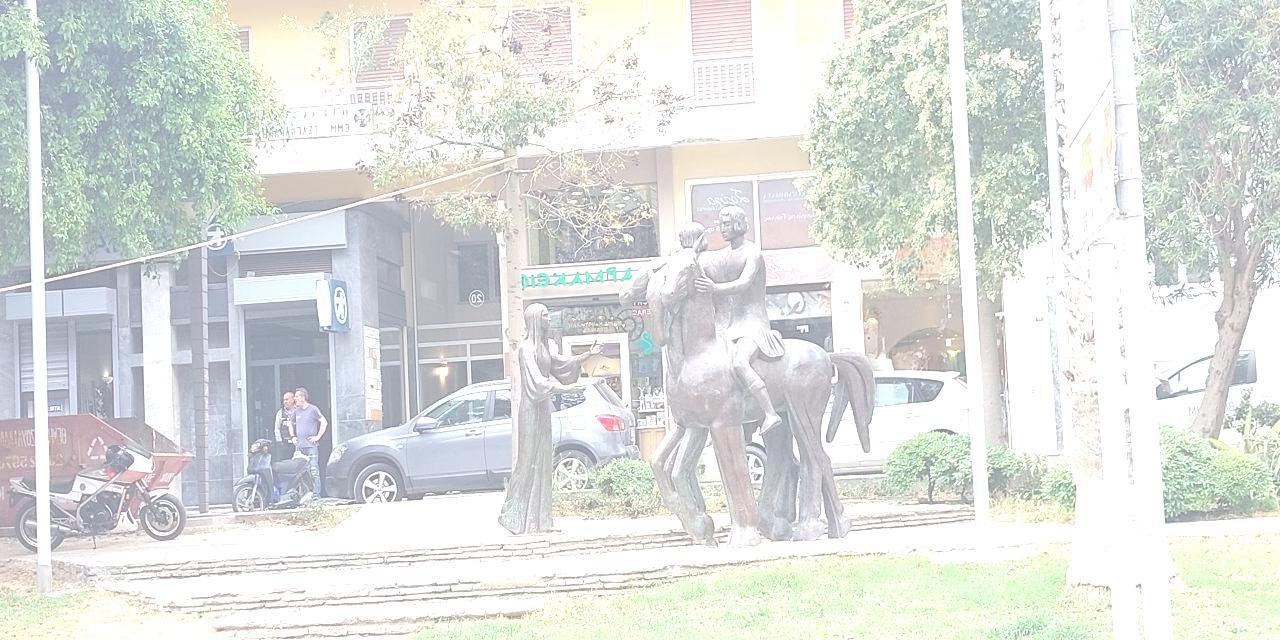Aretousa: (495, 206, 876, 547)
